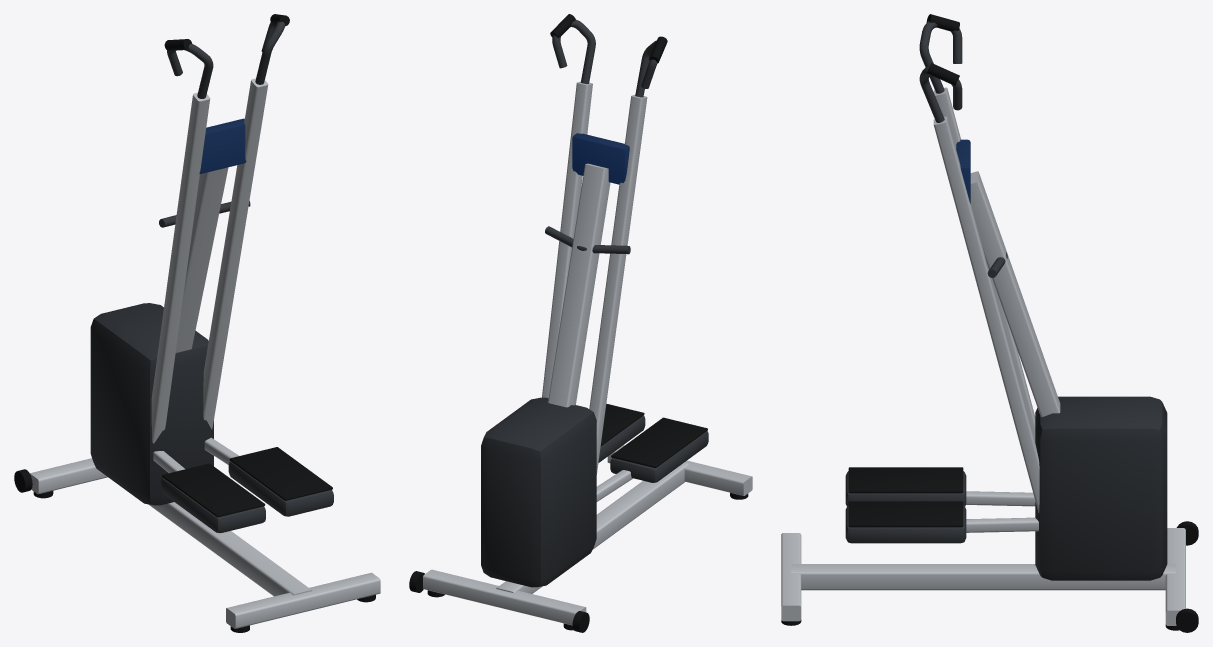
Rendered from airclimber.glb.
3 renders of one model, left to right at view 1: azimuth 30°, elevation 25°; view 2: azimuth 150°, elevation 25°; view 3: azimuth 270°, elevation 25°, orthographic. The views are drawn at different scales.
Parts seen in each view (by area): view 1: airclimber; view 2: airclimber; view 3: airclimber.
Boxes of the visible parts, x1=… form: airclimber: x1=14, y1=14, x2=380, y2=632; airclimber: x1=409, y1=14, x2=752, y2=632; airclimber: x1=781, y1=14, x2=1198, y2=632.
Bounding box in the file's own units: 0.75 × 2.12 × 1.46.
